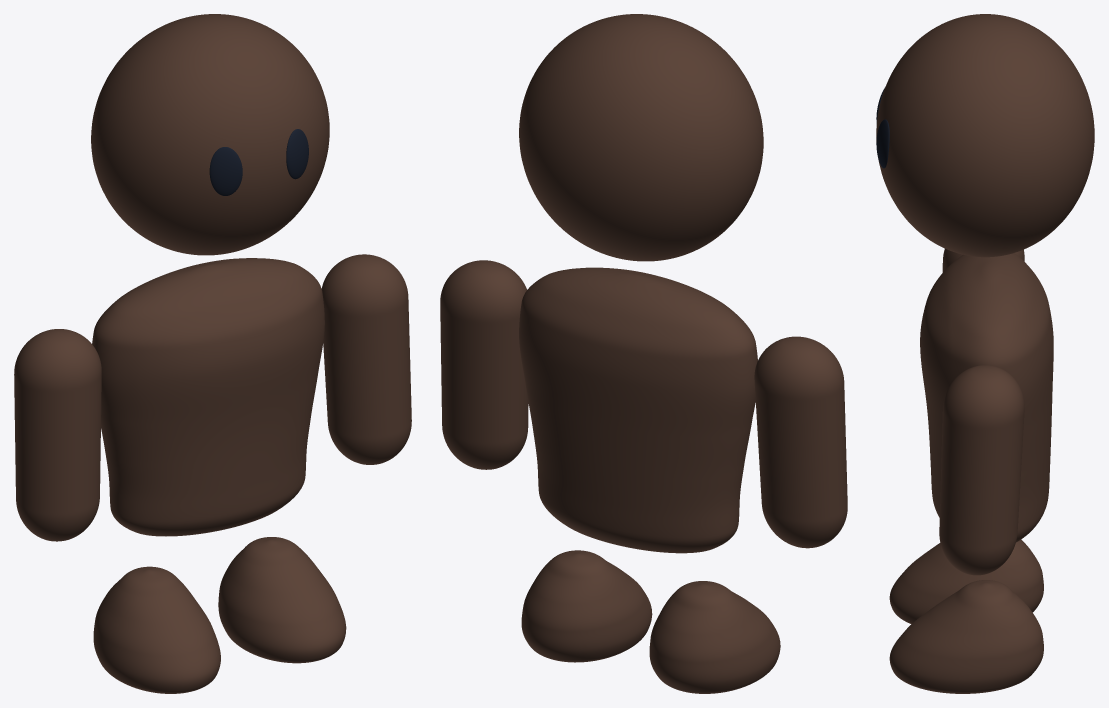
The model's file is Masculine-skin3.glb.
The picture shows the model from 3 angles, left to right: view 1: azimuth 30°, elevation 25°; view 2: azimuth 150°, elevation 25°; view 3: azimuth 270°, elevation 25°; orthographic projection. The views are drawn at different scales.
Parts seen in each view (by area): view 1: Floating torso, Round head, Left floating arm, Right floating arm, Left rounded foot, Right rounded foot, Left optional eye, Right optional eye; view 2: Floating torso, Round head, Left floating arm, Right floating arm, Left rounded foot, Right rounded foot; view 3: Round head, Floating torso, Right floating arm, Right rounded foot, Left rounded foot, Right optional eye.
Boxes of the visible parts, x1,y1,x2,y2 form: Floating torso: [92, 258, 324, 536]; Round head: [91, 14, 329, 255]; Left floating arm: [14, 329, 101, 541]; Right floating arm: [321, 254, 411, 464]; Left rounded foot: [93, 566, 220, 693]; Right rounded foot: [218, 537, 346, 663]; Left optional eye: [209, 147, 242, 195]; Right optional eye: [286, 129, 308, 179]; Floating torso: [519, 267, 757, 553]; Round head: [519, 14, 763, 261]; Left floating arm: [754, 336, 847, 548]; Right floating arm: [440, 260, 528, 469]; Left rounded foot: [649, 581, 780, 693]; Right rounded foot: [521, 550, 652, 662]; Round head: [876, 14, 1094, 257]; Floating torso: [920, 253, 1053, 542]; Right floating arm: [939, 365, 1024, 575]; Right rounded foot: [889, 580, 1043, 693]; Left rounded foot: [889, 539, 1043, 624]; Right optional eye: [876, 119, 889, 168].
Bounding box in the file's own units: 1.79 × 2.78 × 0.88.
